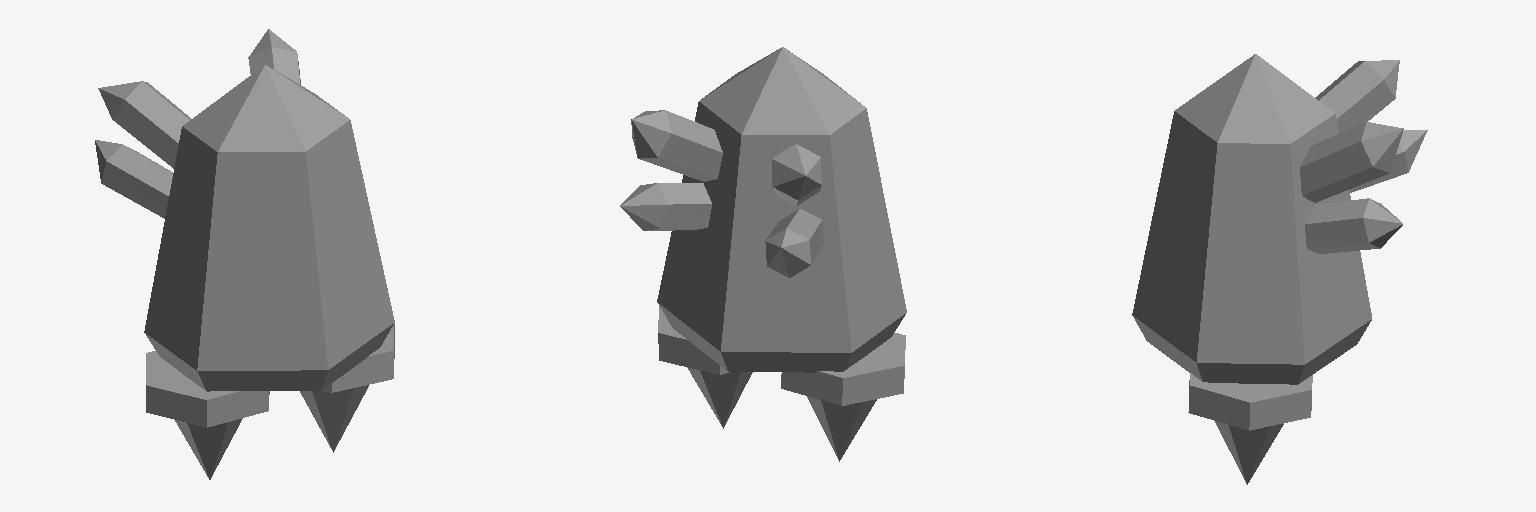
Rendered from body.obj.
3 views of the same model, side by side, from view 1: azimuth 30°, elevation 25°; view 2: azimuth 150°, elevation 25°; view 3: azimuth 270°, elevation 25° (orthographic).
Parts seen in each view (by area): view 1: Mesh.004_DrawCall_0002, Mesh.006_DrawCall_0013, Mesh.008_DrawCall_0011, Mesh.007_DrawCall_0012, Mesh.002_DrawCall_0006, Mesh.013_DrawCall_0014, Mesh.001_DrawCall_0005, Mesh.005_DrawCall_0003; view 2: Mesh.004_DrawCall_0002, Mesh.005_DrawCall_0003, Mesh.006_DrawCall_0013, Mesh_DrawCall_0004, Mesh.007_DrawCall_0012, Mesh.008_DrawCall_0011, Mesh.013_DrawCall_0014, Mesh.002_DrawCall_0006, Mesh.001_DrawCall_0005; view 3: Mesh.004_DrawCall_0002, Mesh.005_DrawCall_0003, Mesh.001_DrawCall_0005, Mesh_DrawCall_0004, Mesh.008_DrawCall_0011, Mesh.002_DrawCall_0006, Mesh.007_DrawCall_0012.
Boxes of the visible parts, <box> form: Mesh.004_DrawCall_0002: <box>144,65,394,391</box>; Mesh.006_DrawCall_0013: <box>146,351,269,427</box>; Mesh.008_DrawCall_0011: <box>98,81,190,168</box>; Mesh.007_DrawCall_0012: <box>95,140,172,218</box>; Mesh.002_DrawCall_0006: <box>300,385,368,452</box>; Mesh.013_DrawCall_0014: <box>175,418,242,479</box>; Mesh.001_DrawCall_0005: <box>322,323,394,392</box>; Mesh.005_DrawCall_0003: <box>248,29,300,84</box>; Mesh.004_DrawCall_0002: <box>657,47,906,372</box>; Mesh.005_DrawCall_0003: <box>631,110,722,181</box>; Mesh.006_DrawCall_0013: <box>781,332,905,405</box>; Mesh_DrawCall_0004: <box>620,183,711,230</box>; Mesh.007_DrawCall_0012: <box>765,209,823,277</box>; Mesh.008_DrawCall_0011: <box>772,144,821,205</box>; Mesh.013_DrawCall_0014: <box>807,396,876,461</box>; Mesh.002_DrawCall_0006: <box>687,367,752,428</box>; Mesh.001_DrawCall_0005: <box>658,306,729,374</box>; Mesh.004_DrawCall_0002: <box>1132,54,1371,384</box>; Mesh.005_DrawCall_0003: <box>1300,122,1403,202</box>; Mesh.001_DrawCall_0005: <box>1188,373,1312,430</box>; Mesh_DrawCall_0004: <box>1305,198,1402,253</box>; Mesh.008_DrawCall_0011: <box>1315,60,1399,133</box>; Mesh.002_DrawCall_0006: <box>1215,421,1283,484</box>; Mesh.007_DrawCall_0012: <box>1349,130,1427,192</box>.
Bounding box in the file's own units: 12.05 × 18.7 × 12.46.